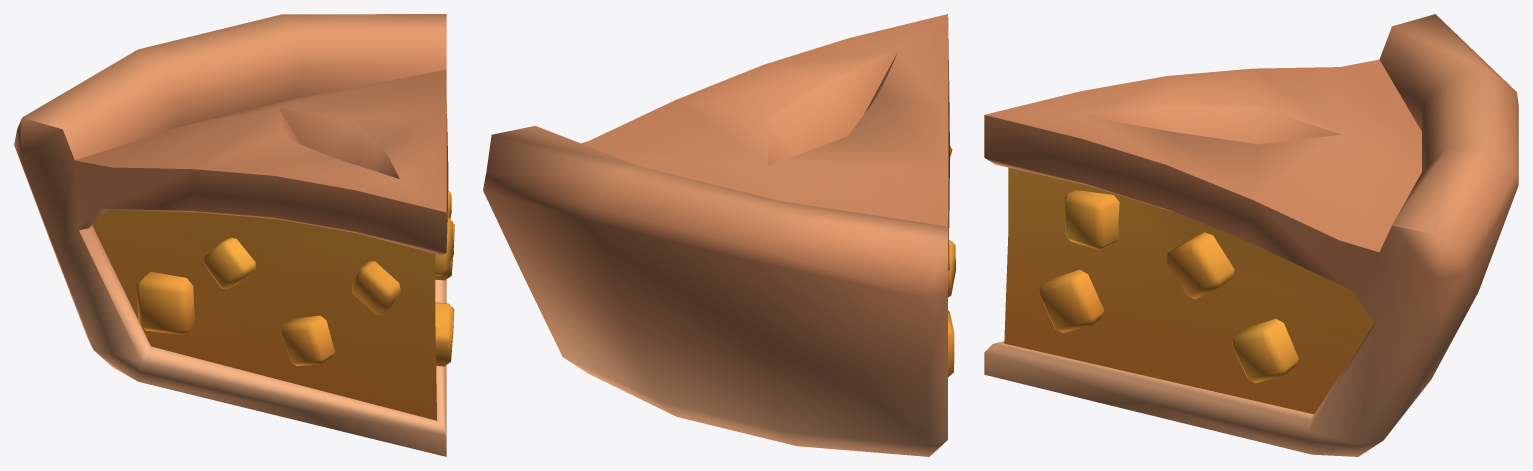
Rendered from pie-apple-slice.glb.
3 renders of one model, left to right at view 1: azimuth 30°, elevation 25°; view 2: azimuth 150°, elevation 25°; view 3: azimuth 270°, elevation 25°, orthographic. The views are drawn at different scales.
Visible parts, largest first — view 1: pie_apple_slice; view 2: pie_apple_slice; view 3: pie_apple_slice.
Part boxes in pixels (x1,y1,x2,y2): pie_apple_slice: (14,14,454,456); pie_apple_slice: (483,14,955,456); pie_apple_slice: (984,14,1518,456).
Bounding box in the file's own units: 0.5577 × 0.3153 × 0.5707.
Materials: 1 (1 with a texture image).
